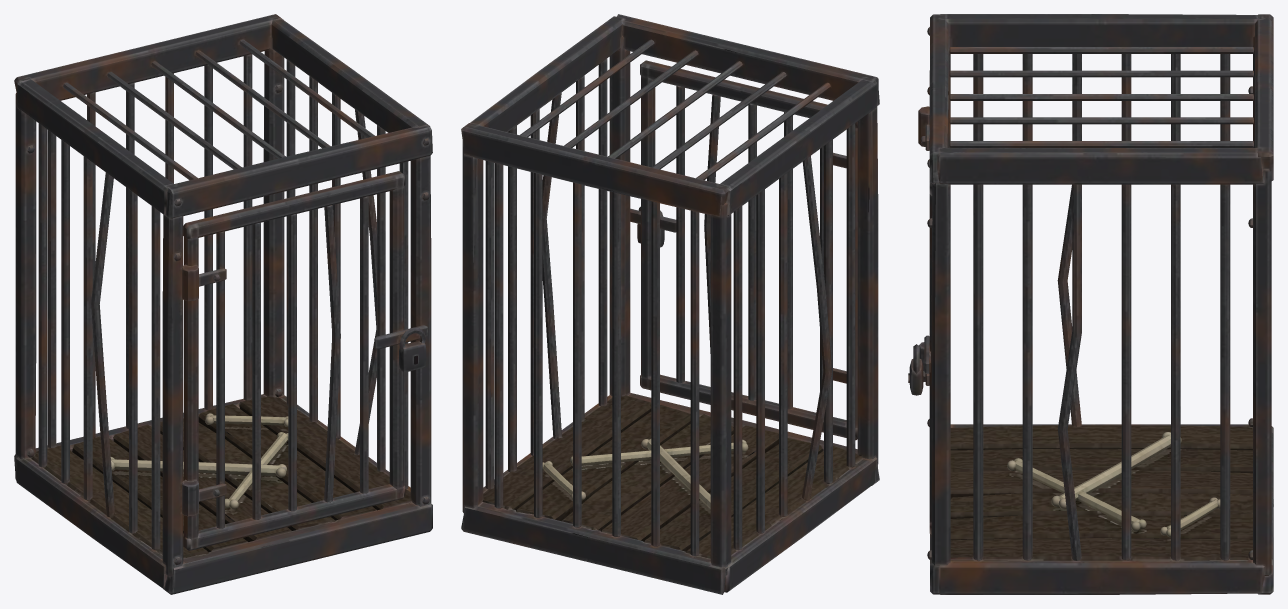
Rendered from iron_cage.glb.
3 renders of one model, left to right at view 1: azimuth 30°, elevation 25°; view 2: azimuth 150°, elevation 25°; view 3: azimuth 270°, elevation 25°, orthographic. The views are drawn at different scales.
Visible parts, largest first — view 1: iron_cage; view 2: iron_cage; view 3: iron_cage.
Boxes of the visible parts, x1,y1,x2,y2 form: iron_cage: [14, 14, 432, 594]; iron_cage: [461, 14, 879, 594]; iron_cage: [908, 14, 1273, 594].
Size of the model in its own units: 0.8779 by 1.18 by 0.8875.
1 material, 1 textured.
